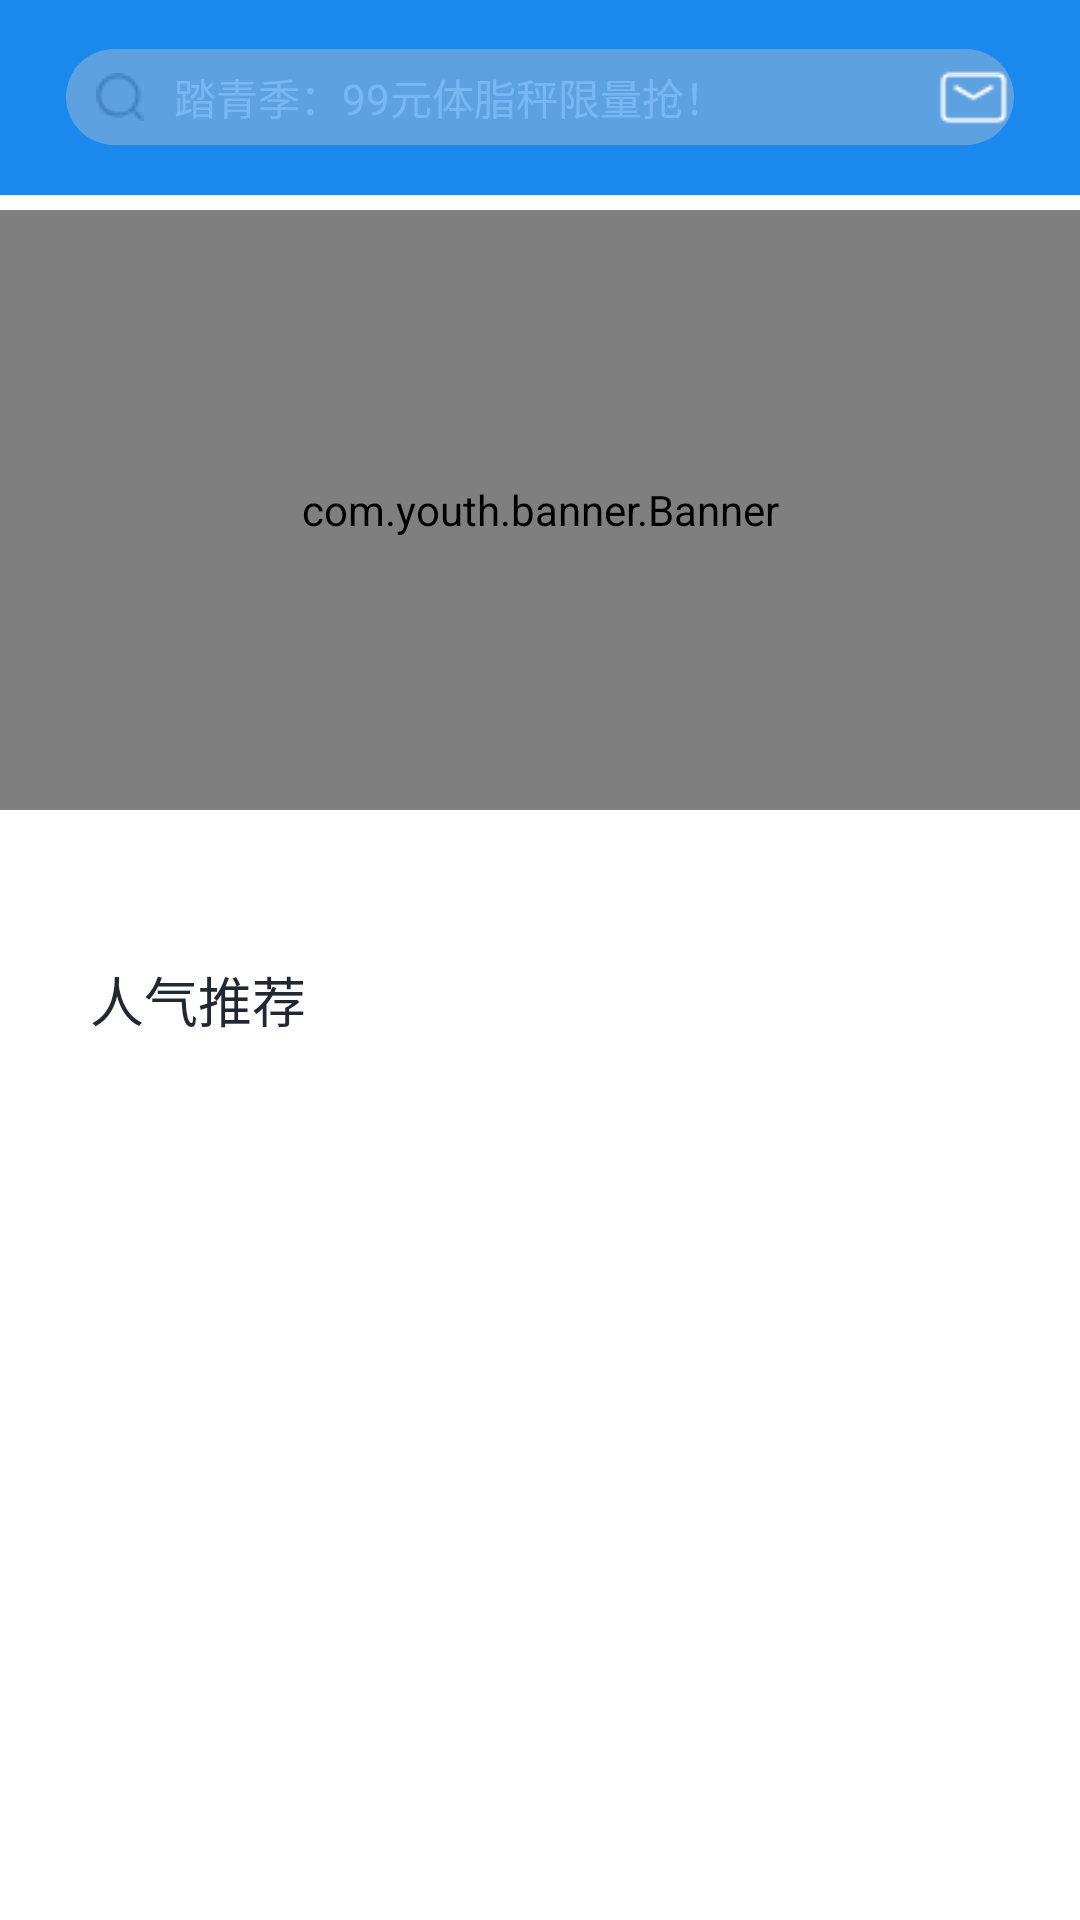

Icon click points for this 1080×1920 phone screenshot, format point (x, y):
message: point (973, 97)
